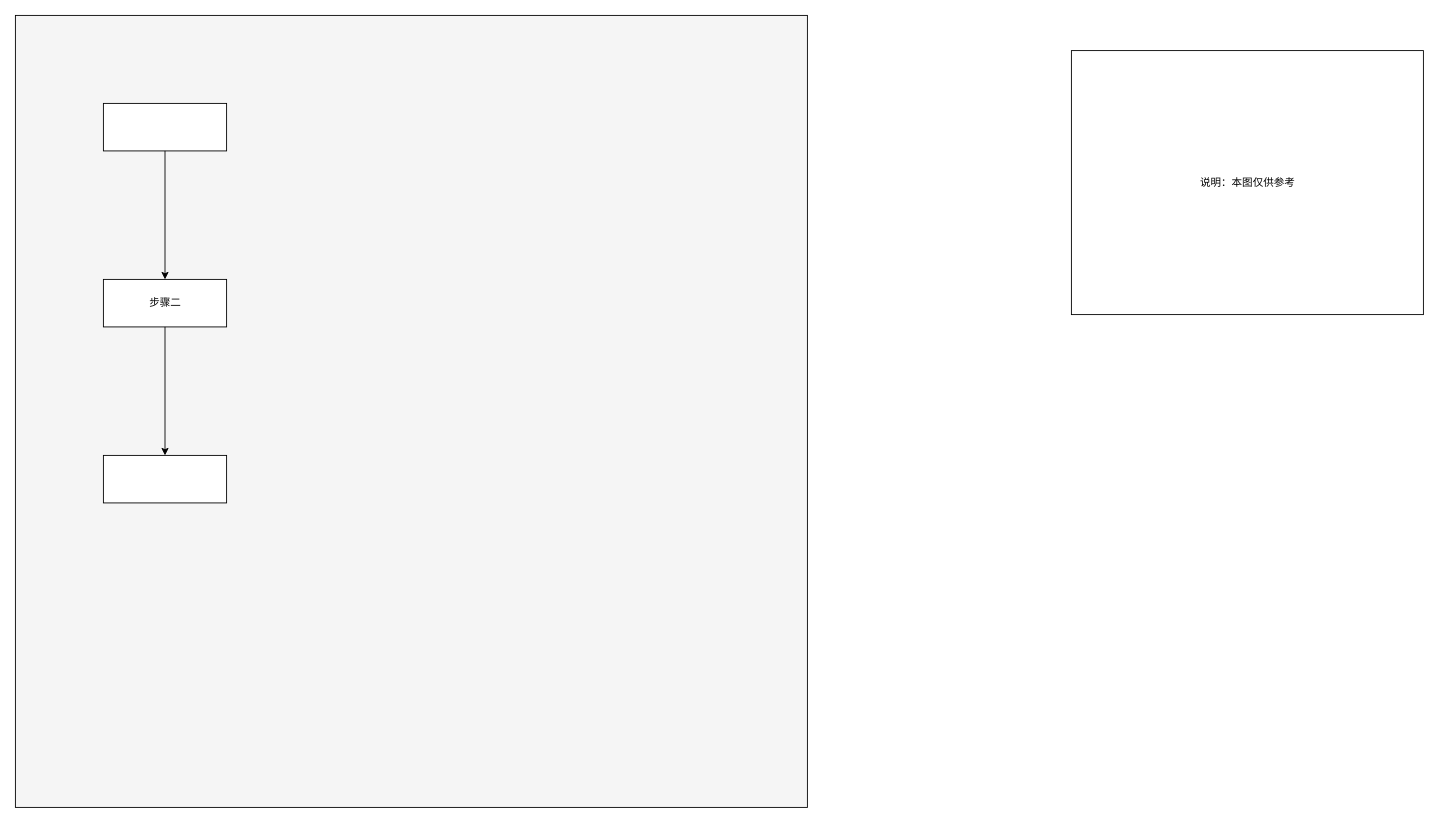
Image size: 1439x823. Some labels were removed from this diagram. The shapes that lost their labels are listed below. From the top down, each one's centre as x and y in pixels, then its label:
the point at 165,127: 步骤一
the point at 165,479: 步骤三
